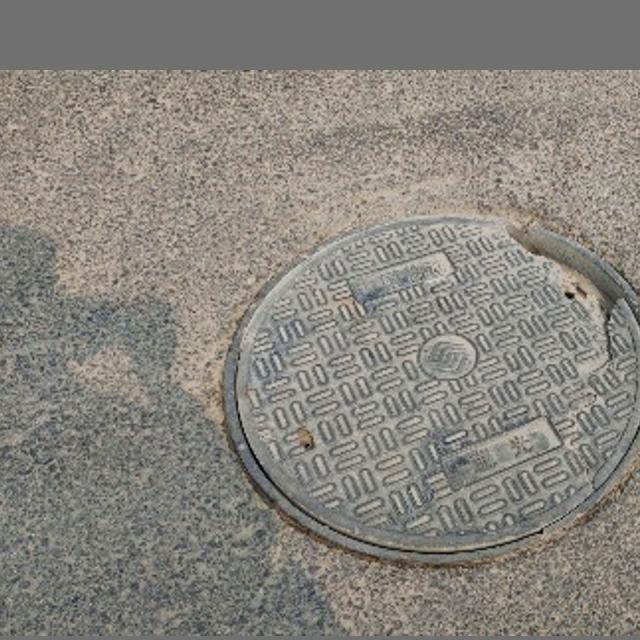broke: (220, 213, 640, 566)
